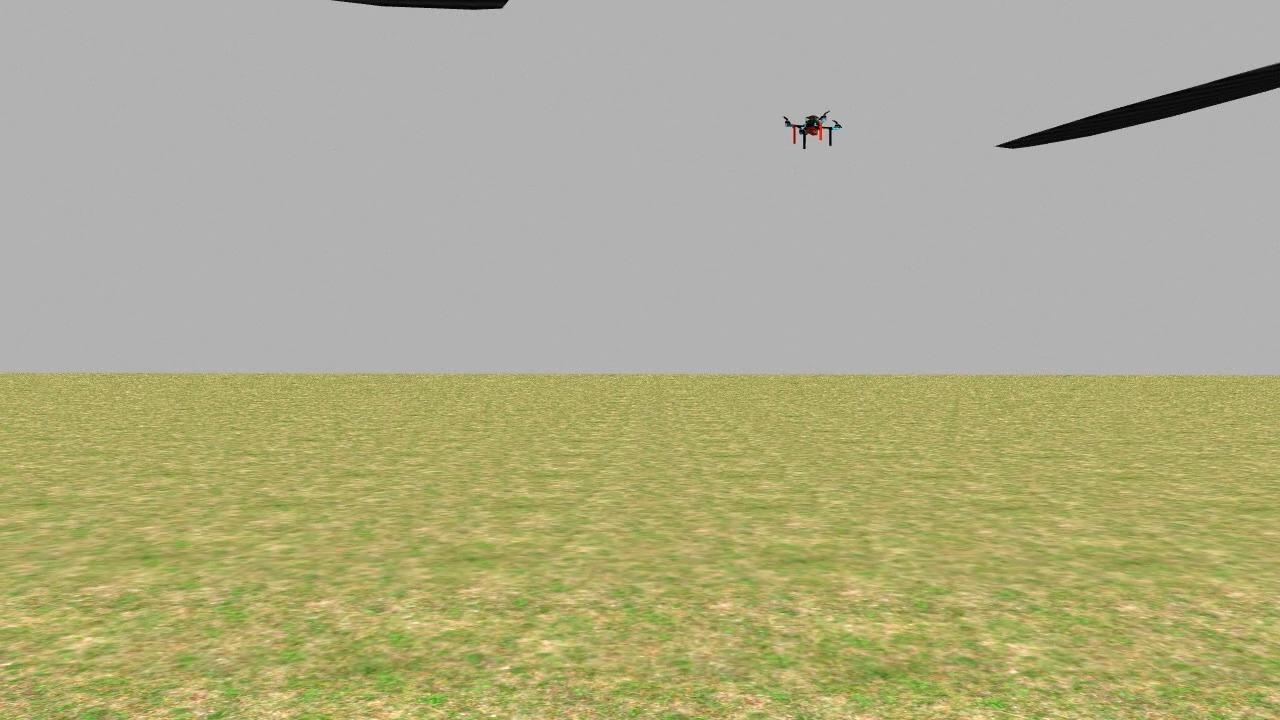UAV: (773, 102, 850, 161)
